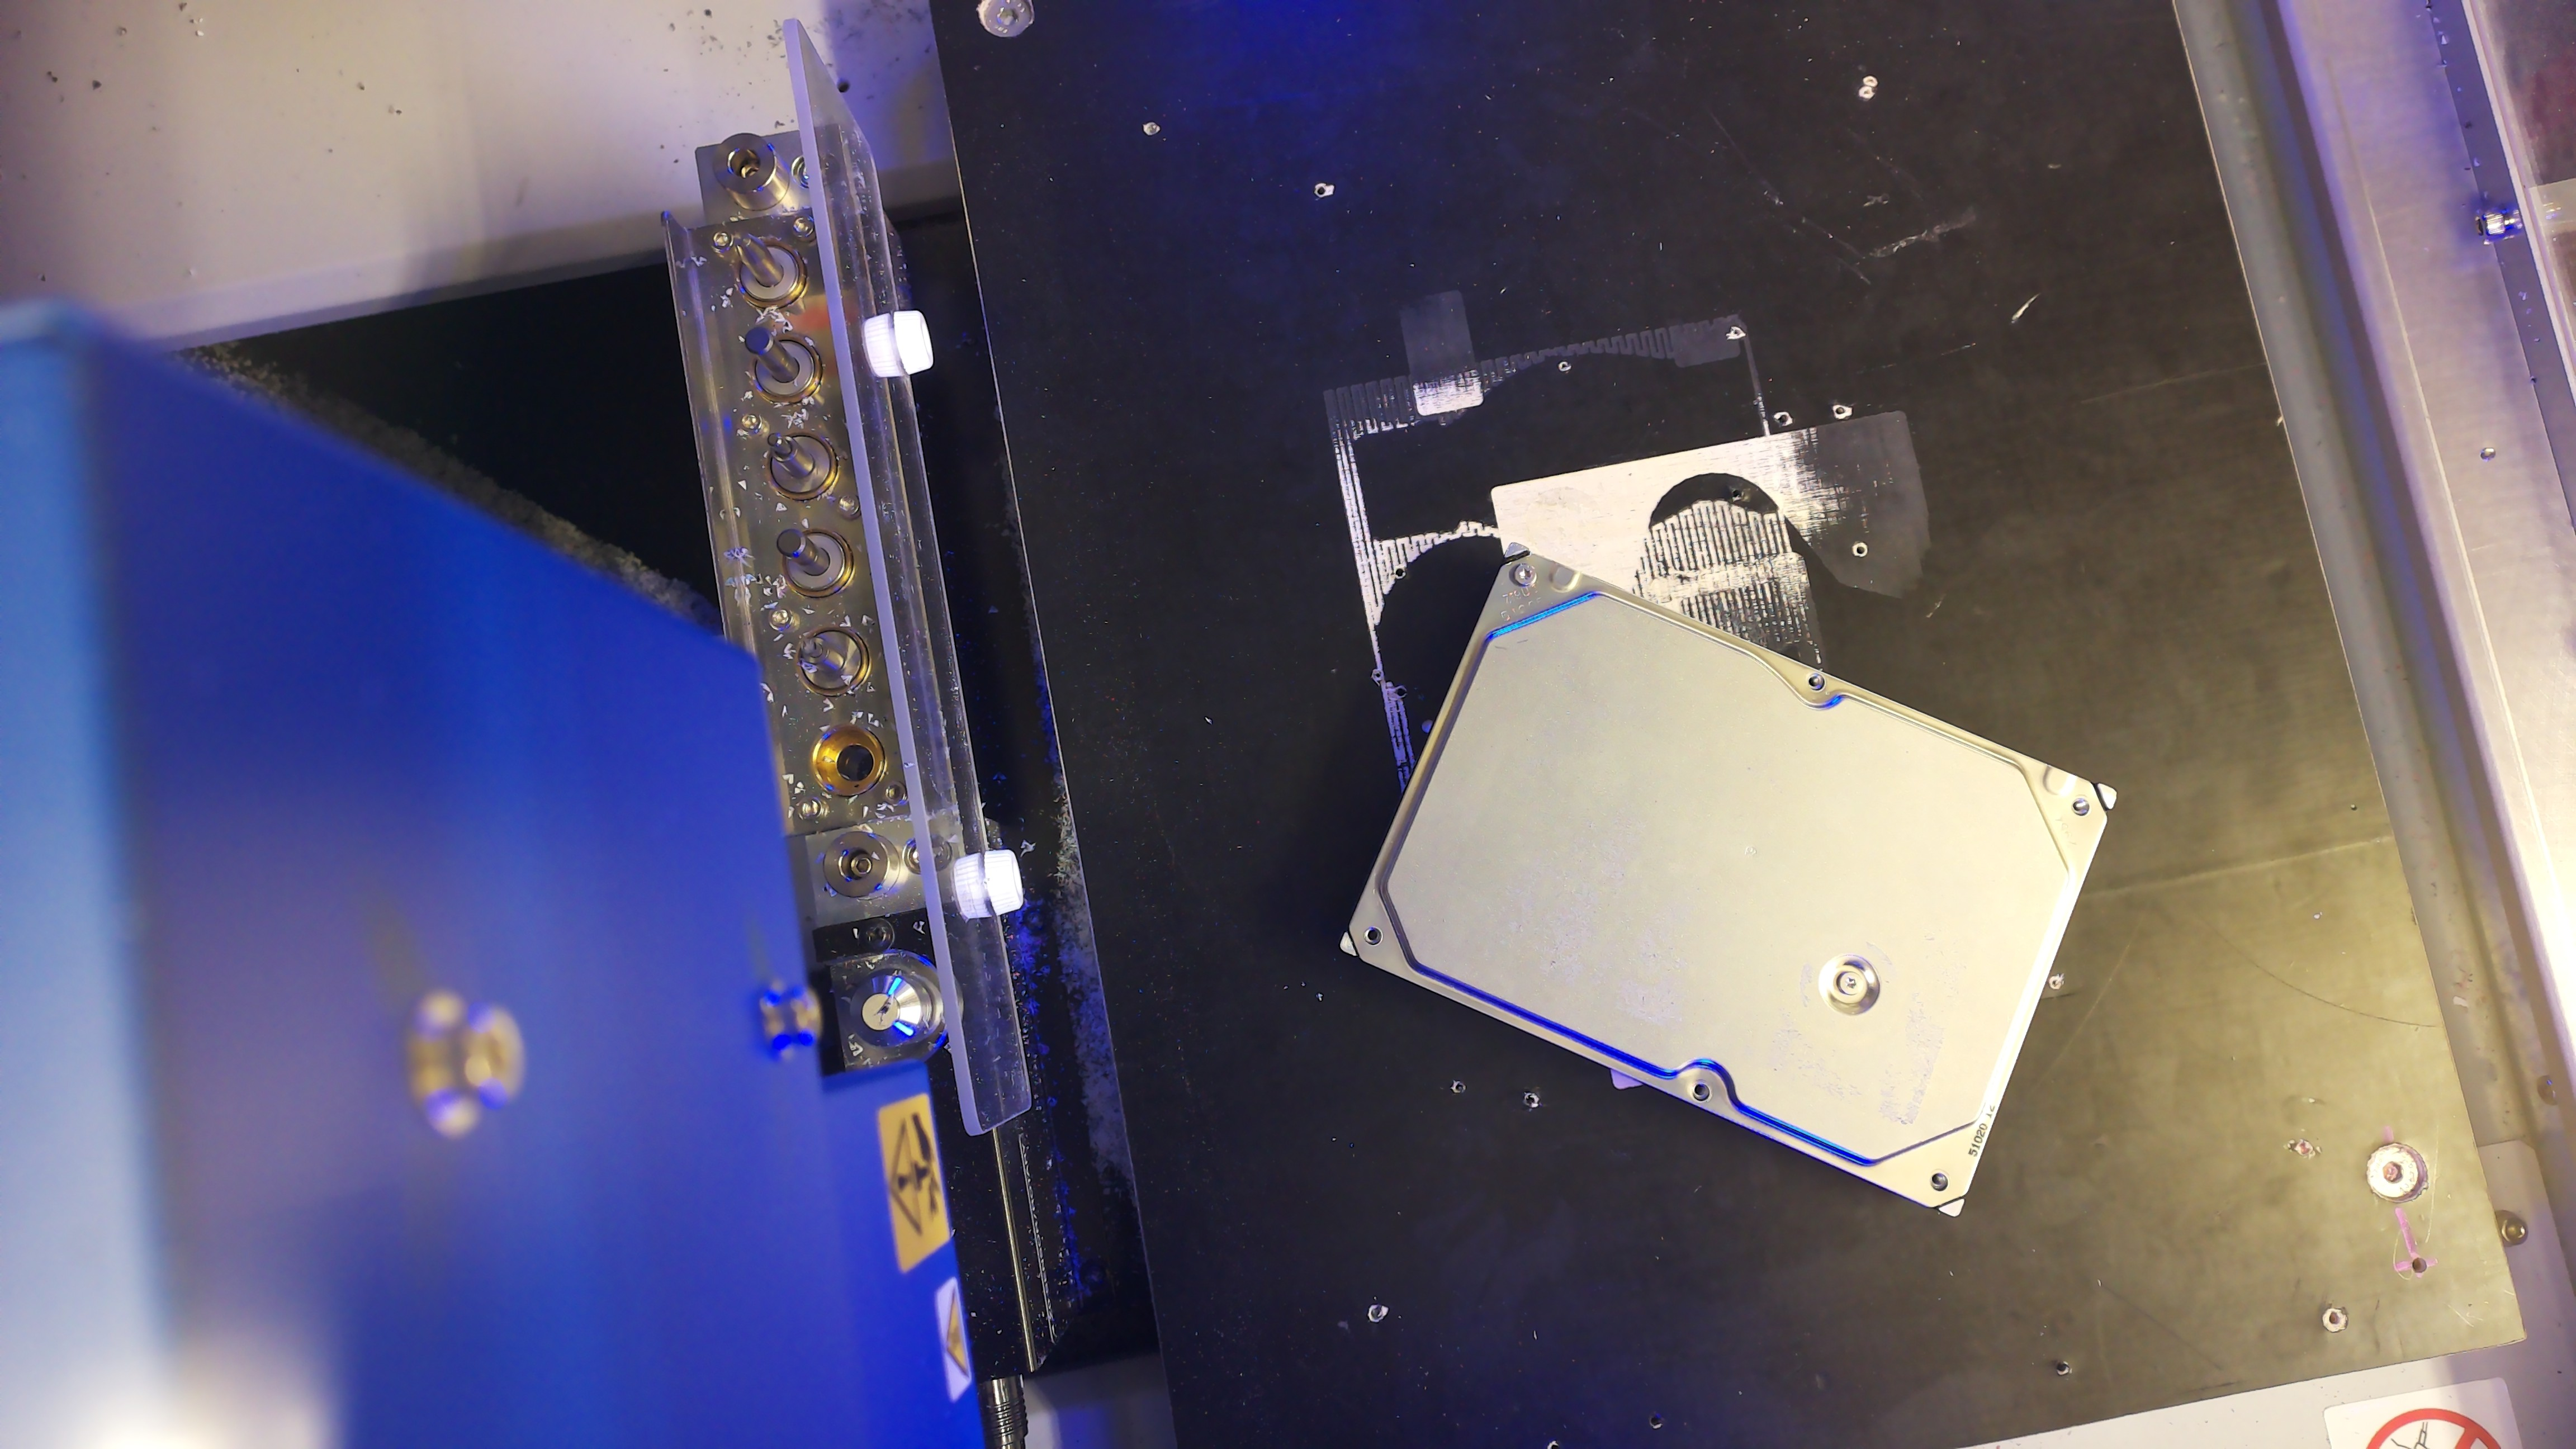Hole: (1928, 1168, 1950, 1193), (1689, 1079, 1712, 1103), (2070, 795, 2090, 817), (1362, 926, 1384, 946), (1806, 671, 1825, 692)
Screw: (1837, 970, 1863, 996), (1514, 562, 1537, 585)
